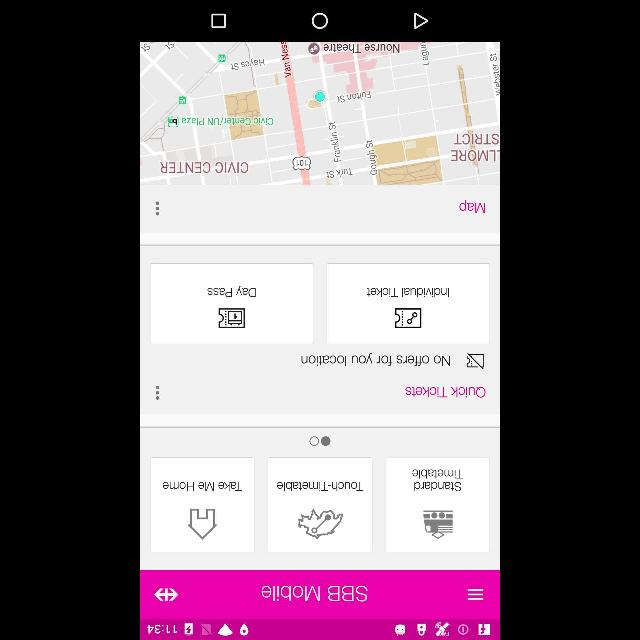icon: (296, 508, 344, 540), (186, 507, 218, 539), (420, 509, 454, 539), (394, 308, 424, 328), (217, 308, 245, 328), (153, 587, 179, 605), (465, 352, 485, 370), (310, 12, 328, 30), (413, 12, 429, 30), (210, 12, 226, 28), (466, 588, 484, 602), (152, 384, 162, 402), (153, 198, 161, 218)
map: (141, 42, 499, 186)
pageindicator: (308, 435, 332, 449)
panel: (140, 2, 498, 40), (260, 582, 370, 608)
text: (299, 353, 451, 367), (403, 384, 487, 402), (366, 285, 452, 299), (412, 468, 464, 490), (278, 481, 362, 493), (161, 480, 241, 492), (206, 286, 256, 298), (458, 200, 486, 216)
textbutton: (326, 264, 488, 344), (152, 264, 312, 344), (268, 458, 370, 552), (150, 458, 252, 552), (388, 459, 488, 551)
toolbar: (142, 570, 498, 620)
uppertaskbar: (141, 620, 499, 640)
